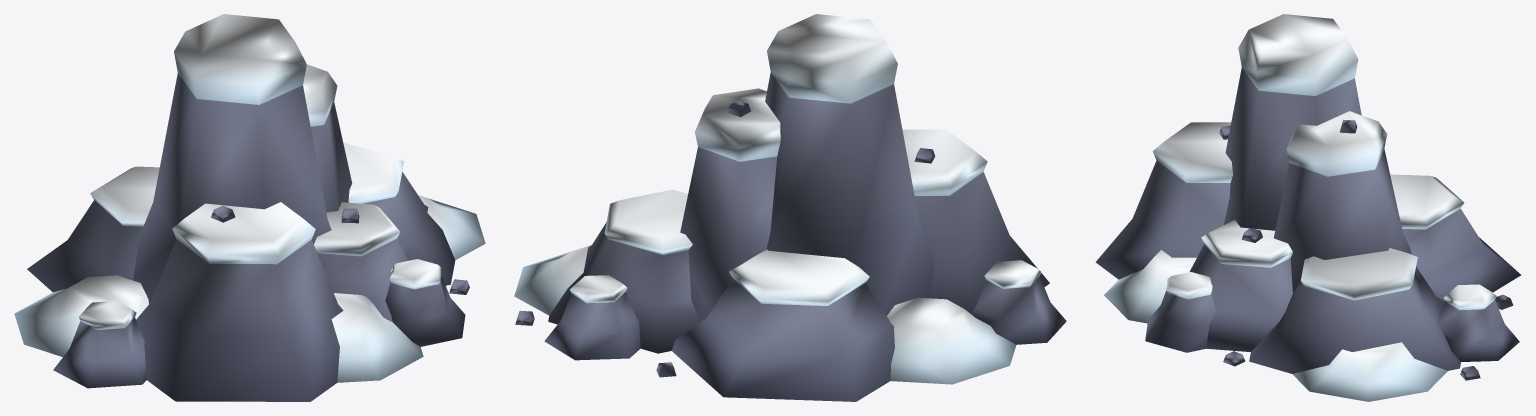
The model's file is rocks-large_lev3.glb.
3 views of the same model, side by side, from view 1: azimuth 30°, elevation 25°; view 2: azimuth 150°, elevation 25°; view 3: azimuth 270°, elevation 25° (orthographic). The views are drawn at different scales.
Parts seen in each view (by area): view 1: rocks-large_lev3; view 2: rocks-large_lev3; view 3: rocks-large_lev3.
Boxes of the visible parts, <box> form: rocks-large_lev3: <box>14,14,485,401</box>; rocks-large_lev3: <box>514,14,1066,401</box>; rocks-large_lev3: <box>1095,14,1521,401</box>.
Size of the model in its own units: 18.85 by 10.28 by 16.12.
Materials: 1 (1 with a texture image).
